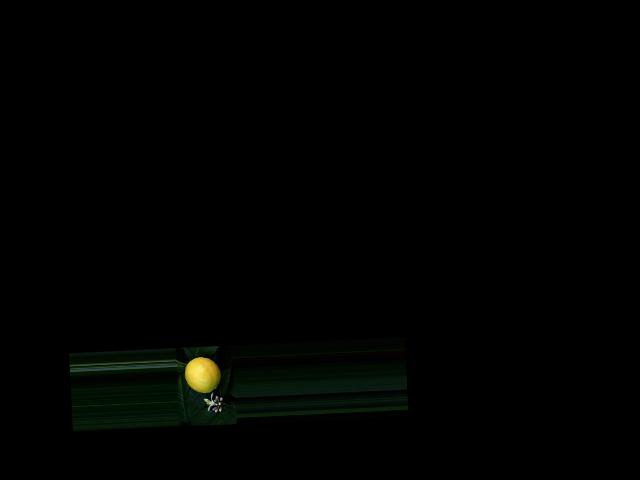lemon: (182, 353, 221, 394)
